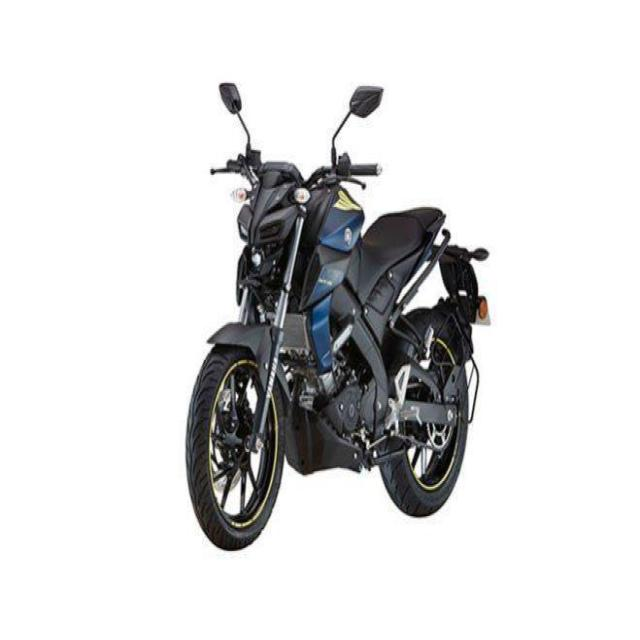motorcycle: (188, 88, 490, 552)
